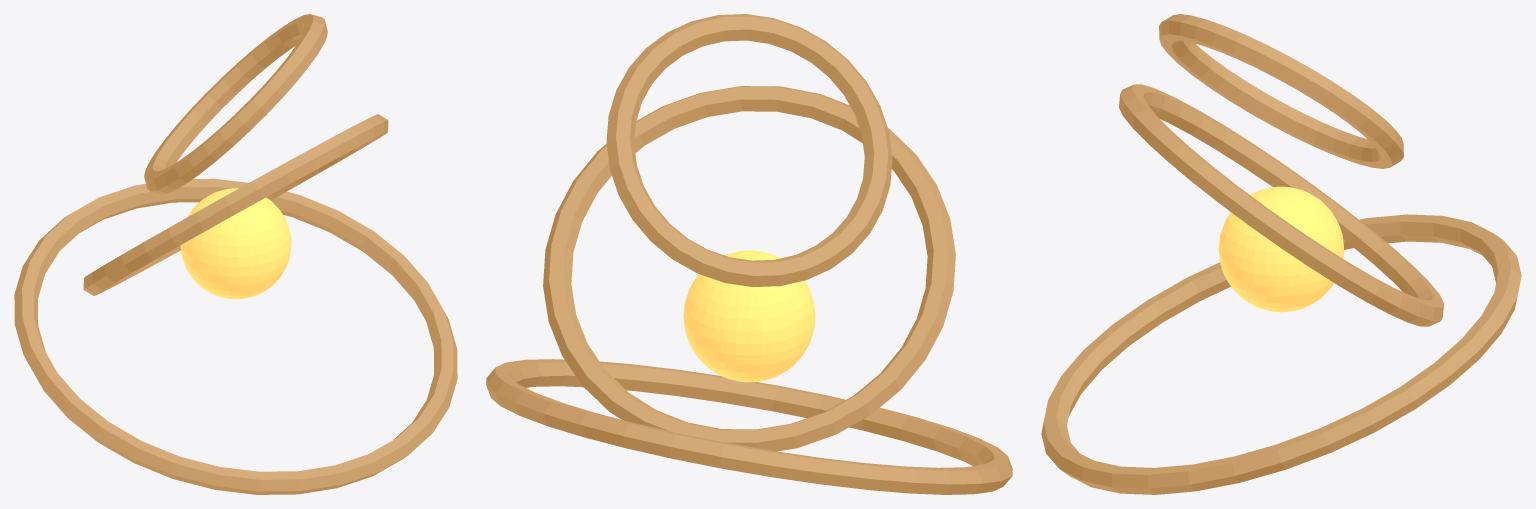
Rendered from 12_memory_world_chrono.glb.
The picture shows the model from 3 angles, left to right: view 1: azimuth 30°, elevation 25°; view 2: azimuth 150°, elevation 25°; view 3: azimuth 270°, elevation 25°; orthographic projection. The views are drawn at different scales.
Visible parts, largest first — view 1: World_chrono_ChronoRing_1, World_chrono_ChronoRing_3, World_chrono_ChronoRing_2, World_chrono_ChronoCore; view 2: World_chrono_ChronoRing_2, World_chrono_ChronoRing_1, World_chrono_ChronoRing_3, World_chrono_ChronoCore; view 3: World_chrono_ChronoRing_1, World_chrono_ChronoRing_2, World_chrono_ChronoRing_3, World_chrono_ChronoCore.
Part boxes in pixels (bbox=[...]): World_chrono_ChronoRing_1: bbox=[14, 178, 457, 494]; World_chrono_ChronoRing_3: bbox=[144, 14, 327, 194]; World_chrono_ChronoRing_2: bbox=[83, 114, 388, 295]; World_chrono_ChronoCore: bbox=[180, 188, 291, 299]; World_chrono_ChronoRing_2: bbox=[543, 86, 955, 451]; World_chrono_ChronoRing_1: bbox=[486, 359, 1012, 494]; World_chrono_ChronoRing_3: bbox=[606, 14, 892, 286]; World_chrono_ChronoCore: bbox=[683, 250, 815, 382]; World_chrono_ChronoRing_1: bbox=[1041, 214, 1521, 494]; World_chrono_ChronoRing_2: bbox=[1119, 84, 1443, 326]; World_chrono_ChronoRing_3: bbox=[1159, 14, 1403, 168]; World_chrono_ChronoCore: bbox=[1218, 186, 1344, 312].
Size of the model in its own units: 1.06 by 1.01 by 0.9923.
